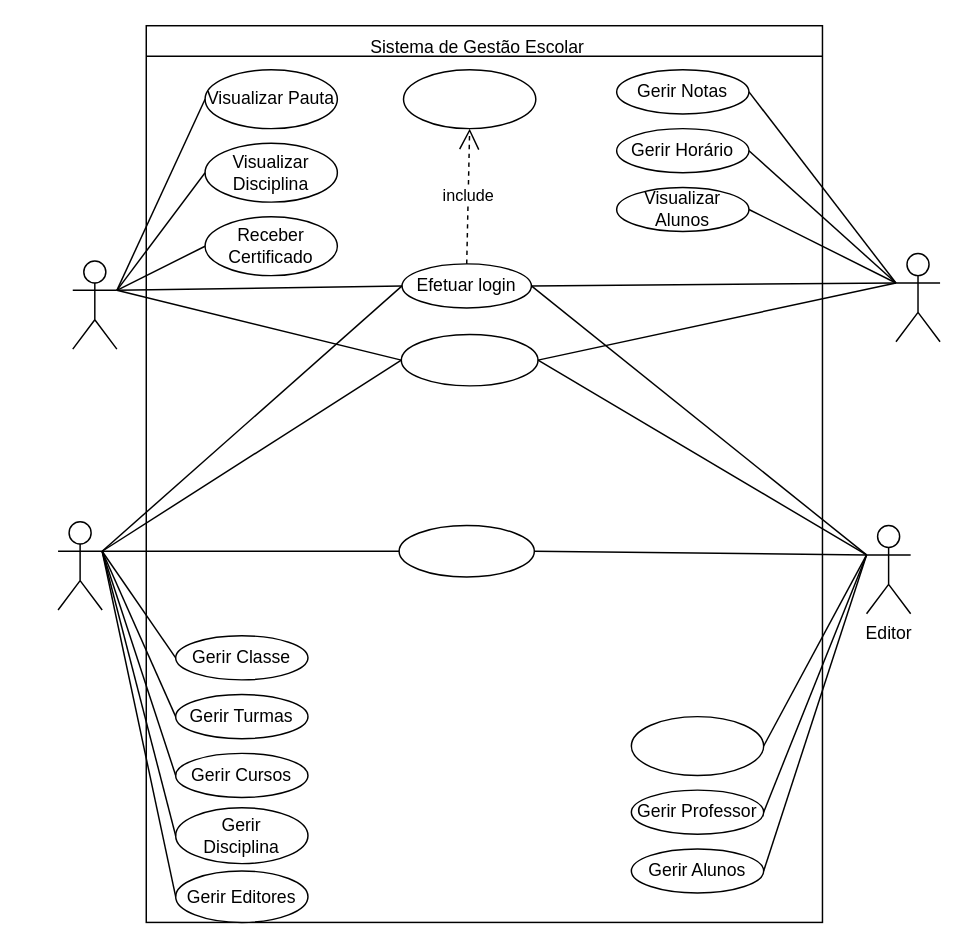
Image size: 980x948. Some labels were removed from this diagram. The centre of each missing label's shape, as x and y in pixels:
"Administrador" goes at pixel 79 565.
"Aluno" goes at pixel 94 304.
"Efetuar Logout" goes at pixel 469 359.
"Gerar Certificado" goes at pixel 697 745.
"Gerir Conta" goes at pixel 466 550.
"Professor" goes at pixel 917 297.
"Verificar login" goes at pixel 469 98.
